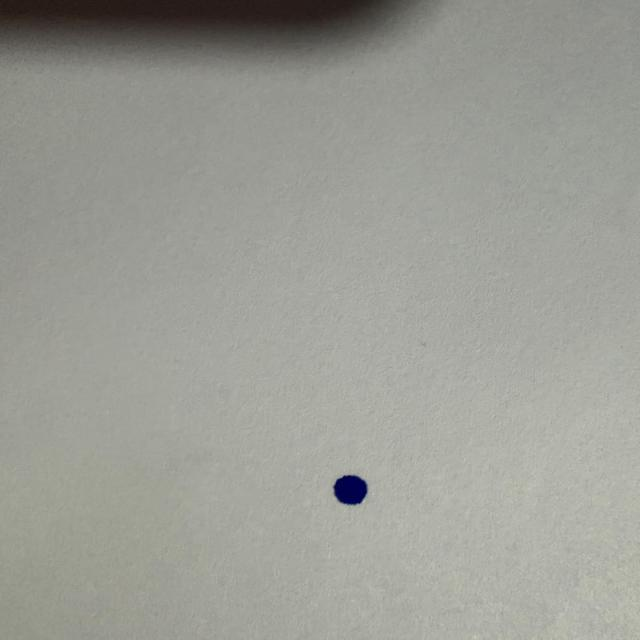Circle: (328, 474, 376, 511)
